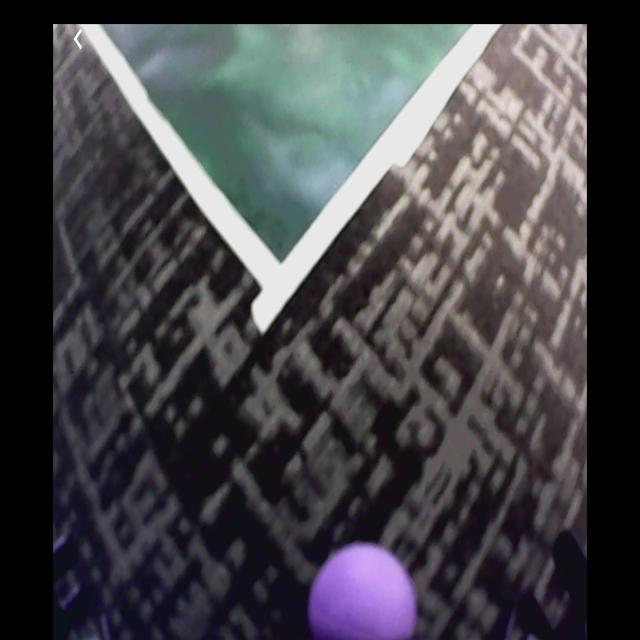ball: (310, 548, 420, 639)
